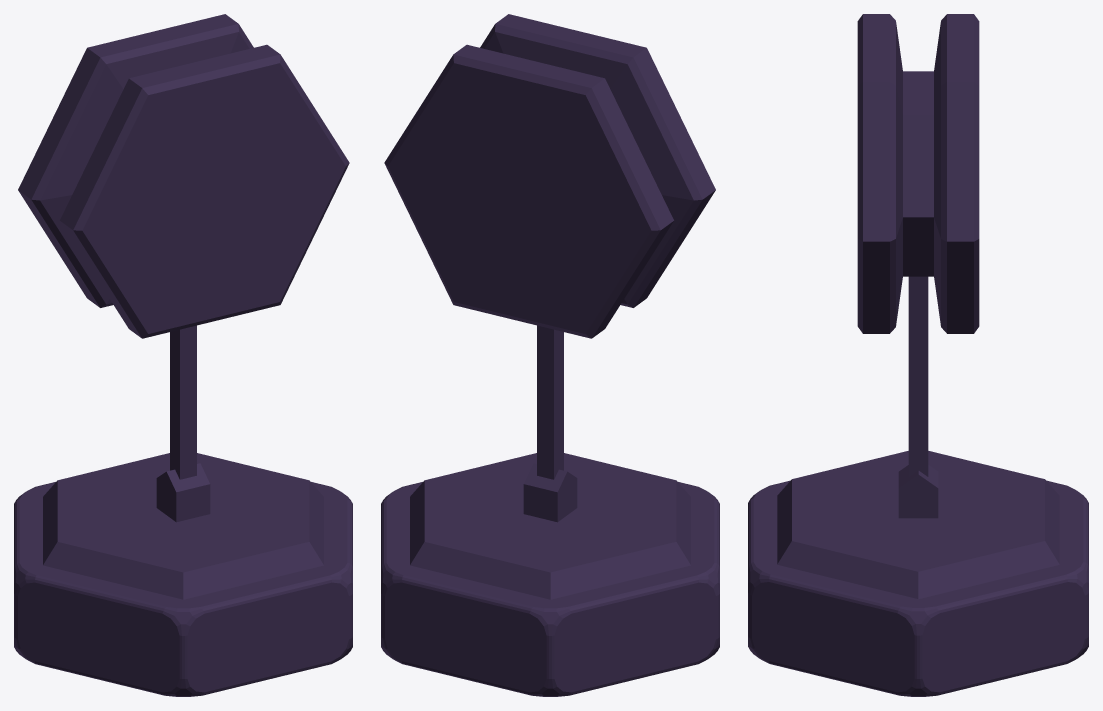
File: hex_hammer.glb
The picture shows the model from 3 angles, left to right: view 1: azimuth 30°, elevation 25°; view 2: azimuth 150°, elevation 25°; view 3: azimuth 270°, elevation 25°; orthographic projection.
Parts seen in each view (by area): view 1: hammer, tile; view 2: hammer, tile; view 3: tile, hammer.
Part boxes in pixels (x1,y1,x2,y2): hammer: (18, 14, 349, 479); tile: (14, 453, 352, 696); hammer: (384, 14, 715, 479); tile: (381, 453, 719, 696); tile: (748, 451, 1088, 696); hammer: (857, 14, 979, 476).
Bounding box in the file's own units: 1.98 × 3.21 × 1.73.
